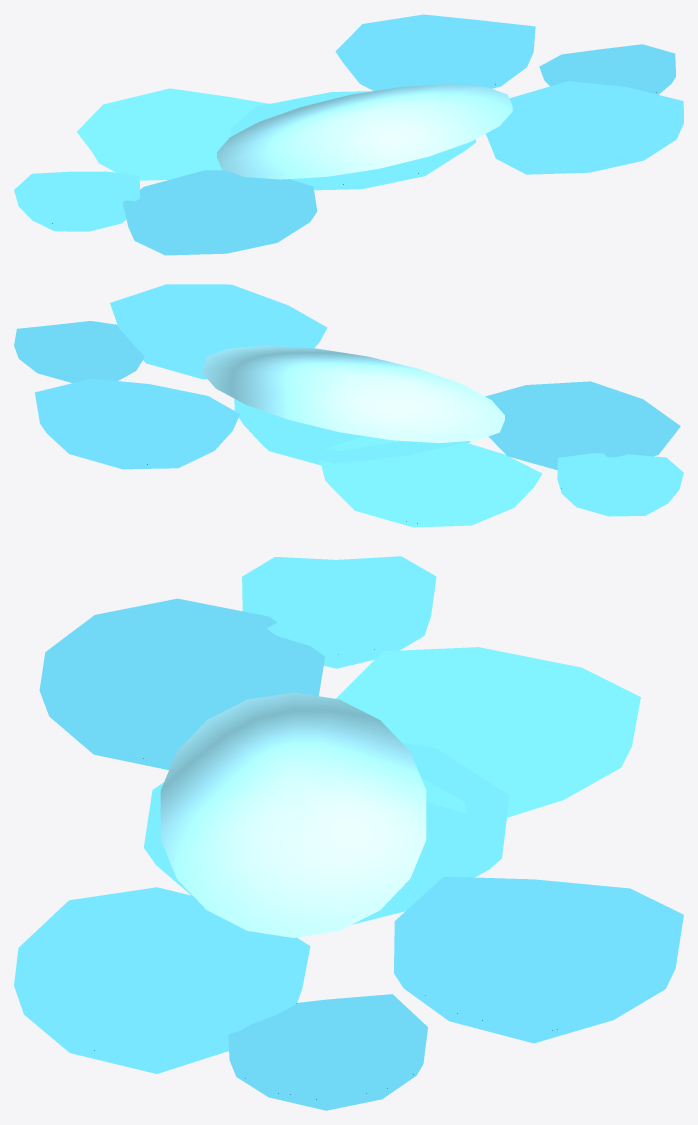
The model's file is terrain_water_cell.gltf.
3 views of the same model, one above another, from view 1: azimuth 30°, elevation 25°; view 2: azimuth 150°, elevation 25°; view 3: azimuth 270°, elevation 25° (orthographic). The views are drawn at different scales.
Visible parts, largest first — view 1: terrain_water_cell; view 2: terrain_water_cell; view 3: terrain_water_cell.
Part boxes in pixels (<box>): terrain_water_cell: <box>14,14,683,255</box>; terrain_water_cell: <box>14,284,683,527</box>; terrain_water_cell: <box>14,556,683,1110</box>.
Bounding box in the file's own units: 3.51 × 0.193 × 1.86.
